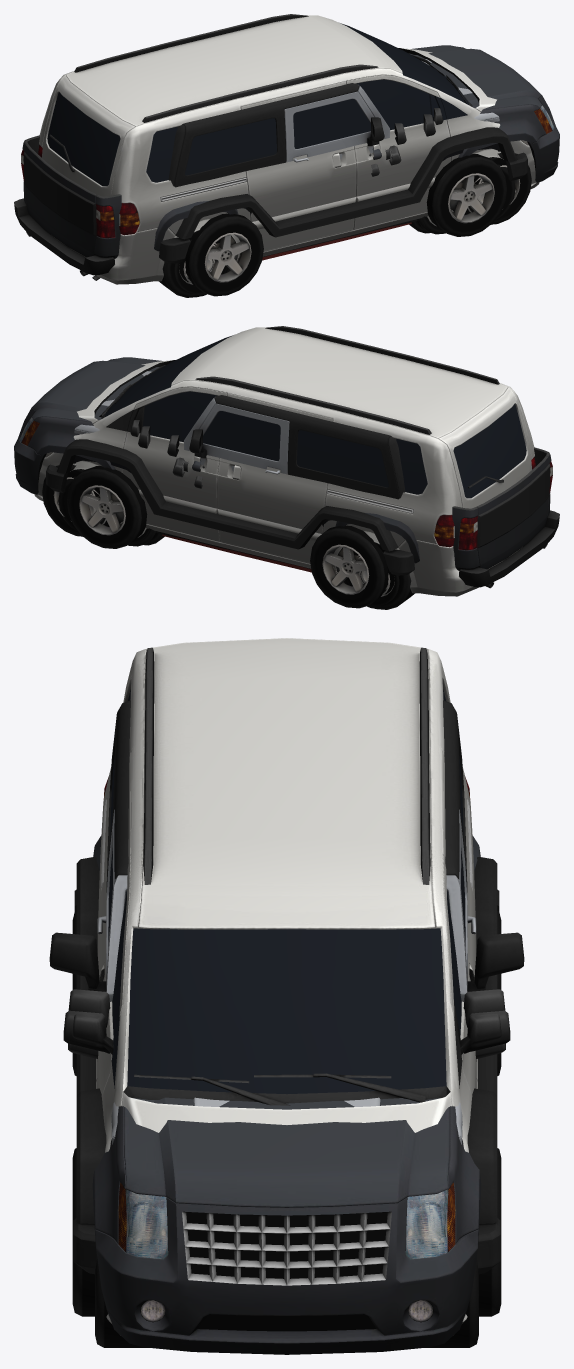
File: cars.glb
3 renders of one model, top to bottom at view 1: azimuth 30°, elevation 25°; view 2: azimuth 150°, elevation 25°; view 3: azimuth 270°, elevation 25°, orthographic. The views are drawn at different scales.
Parts seen in each view (by area): view 1: minivan_body, pickup_body, offroad_body, offroad_wheels, minivan_glass, offroad_glass, pickup_wheels, minivan_wheels, coupe_body, suv_body, pickup_lenses, wagon_body (+1 smaller); view 2: minivan_body, pickup_body, offroad_body, offroad_wheels, minivan_glass, offroad_glass, pickup_wheels, minivan_wheels, coupe_body, suv_body, pickup_lenses, wagon_body (+1 smaller); view 3: minivan_body, pickup_body, minivan_glass, offroad_body, pickup_lights_head, offroad_wheels, pickup_wheels, suv_body, pickup_lenses, offroad_glass.
Part boxes in pixels (x1,y1,x2,y2): minivan_body: (39,14,539,284); pickup_body: (14,45,559,276); offroad_body: (159,59,527,263); offroad_wheels: (185,154,506,296); minivan_glass: (47,23,468,186); offroad_glass: (185,99,370,175); pickup_wheels: (159,153,531,297); minivan_wheels: (174,164,515,296); coupe_body: (262,163,411,260); suv_body: (243,123,500,214); pickup_lenses: (21,109,552,221); wagon_body: (263,145,417,257); minivan_body: (34,326,534,596); pickup_body: (14,357,559,588); offroad_body: (46,371,414,575); offroad_wheels: (67,466,388,608); minivan_glass: (105,335,526,498); offroad_glass: (203,411,388,487); pickup_wheels: (42,465,414,609); minivan_wheels: (58,476,399,608); coupe_body: (162,475,311,572); suv_body: (73,435,330,526); pickup_lenses: (21,421,552,533); wagon_body: (156,457,310,569); minivan_body: (72,638,501,1335); pickup_body: (63,836,510,1354); minivan_glass: (111,689,461,1094); offroad_body: (49,700,524,1274); pickup_lights_head: (125,1189,448,1322); offroad_wheels: (72,910,501,1316); pickup_wheels: (95,1258,478,1347); suv_body: (68,989,505,1028); pickup_lenses: (118,1182,455,1252); offroad_glass: (108,756,465,946).
Bounding box in the file's own units: 5.4 × 1.95 × 2.29.
Materials: 45 (44 with a texture image).
